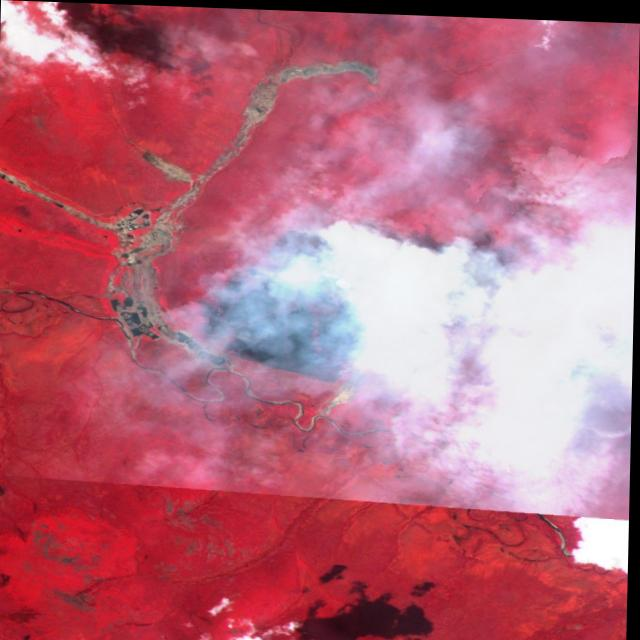fire: (187, 220, 394, 388)
